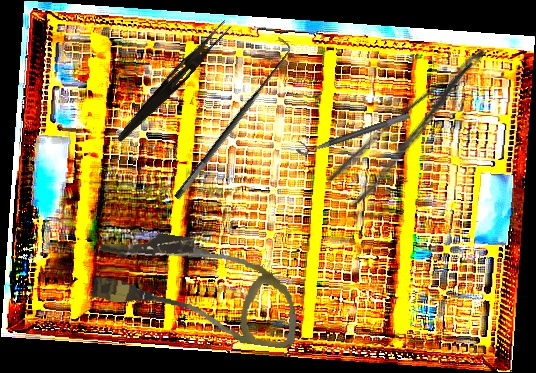Cannula: (87, 224, 307, 351)
Dressing Forceps: (323, 44, 509, 211), (114, 16, 233, 148)
Fixation Ring: (293, 103, 411, 158)
Hook Surgical: (162, 36, 298, 202)
